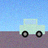vehicle: (19, 19, 45, 37)
